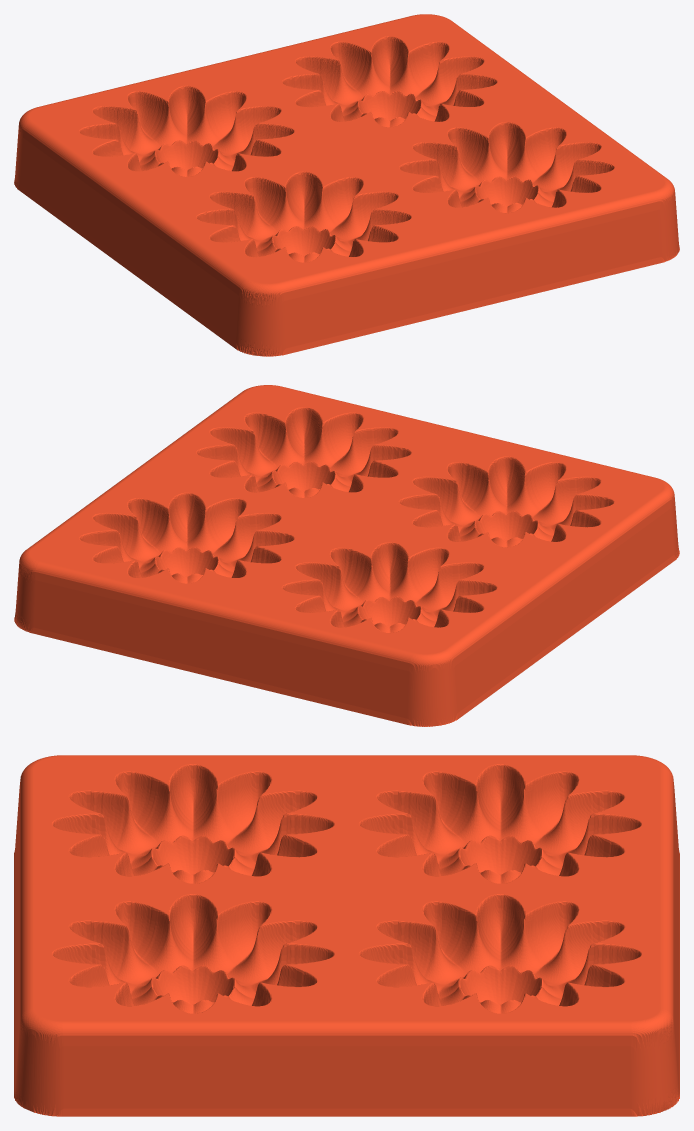
The model's file is mold.glb.
3 views of the same model, one above another, from view 1: azimuth 30°, elevation 25°; view 2: azimuth 150°, elevation 25°; view 3: azimuth 270°, elevation 25° (orthographic). The views are drawn at different scales.
Visible parts, largest first — view 1: geometry_0; view 2: geometry_0; view 3: geometry_0.
Part boxes in pixels (bbox=[...]): geometry_0: bbox=[14, 14, 679, 356]; geometry_0: bbox=[14, 385, 679, 726]; geometry_0: bbox=[14, 755, 679, 1116].
Bounding box in the file's own units: 0.1211 × 0.0175 × 0.1211.
